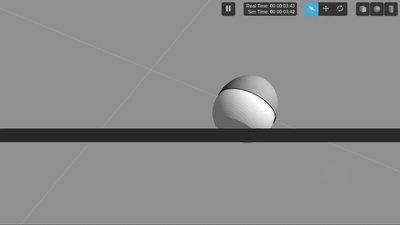mira_robot: (213, 75, 278, 129)
